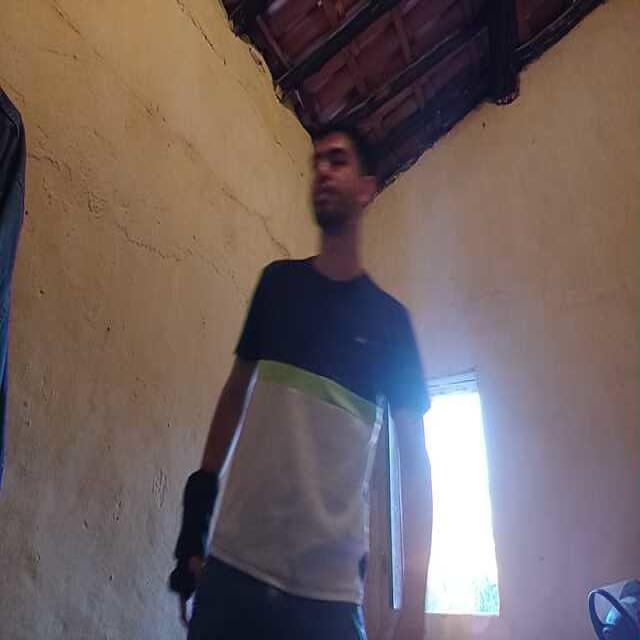capacete: (583, 574, 640, 640)
pessoa: (198, 144, 433, 640)
